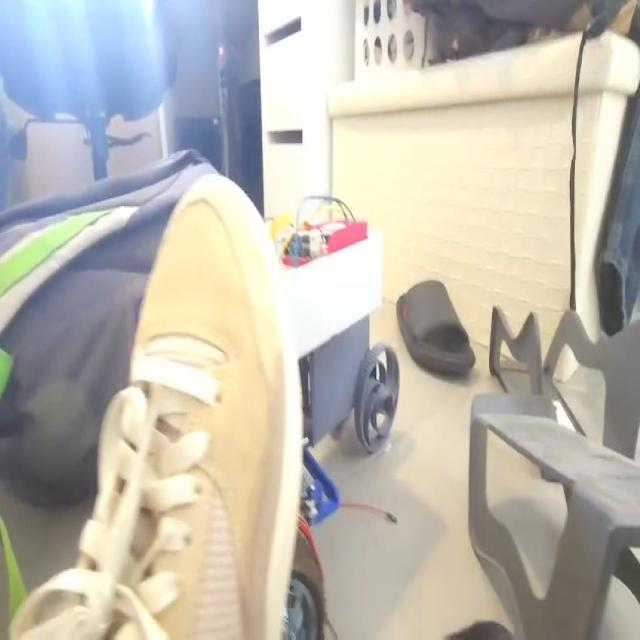Robot: (273, 218, 400, 638)
